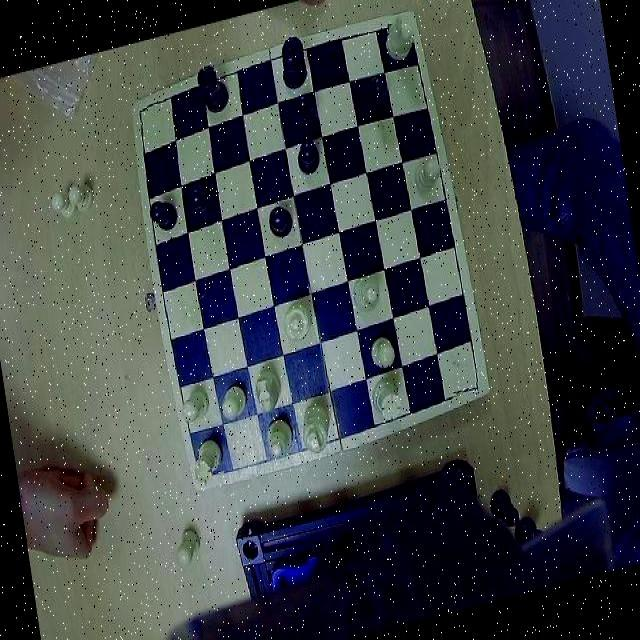chess-table-corners: (450, 363, 486, 402), (190, 452, 226, 488), (385, 9, 418, 47), (134, 95, 160, 126)
